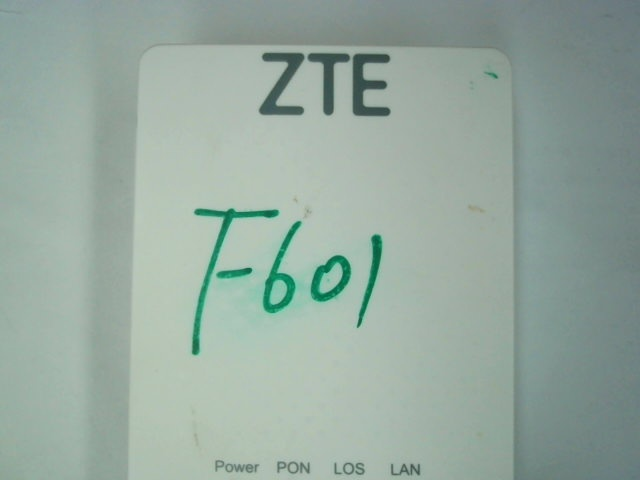AN_ZTE: (256, 48, 397, 119)
